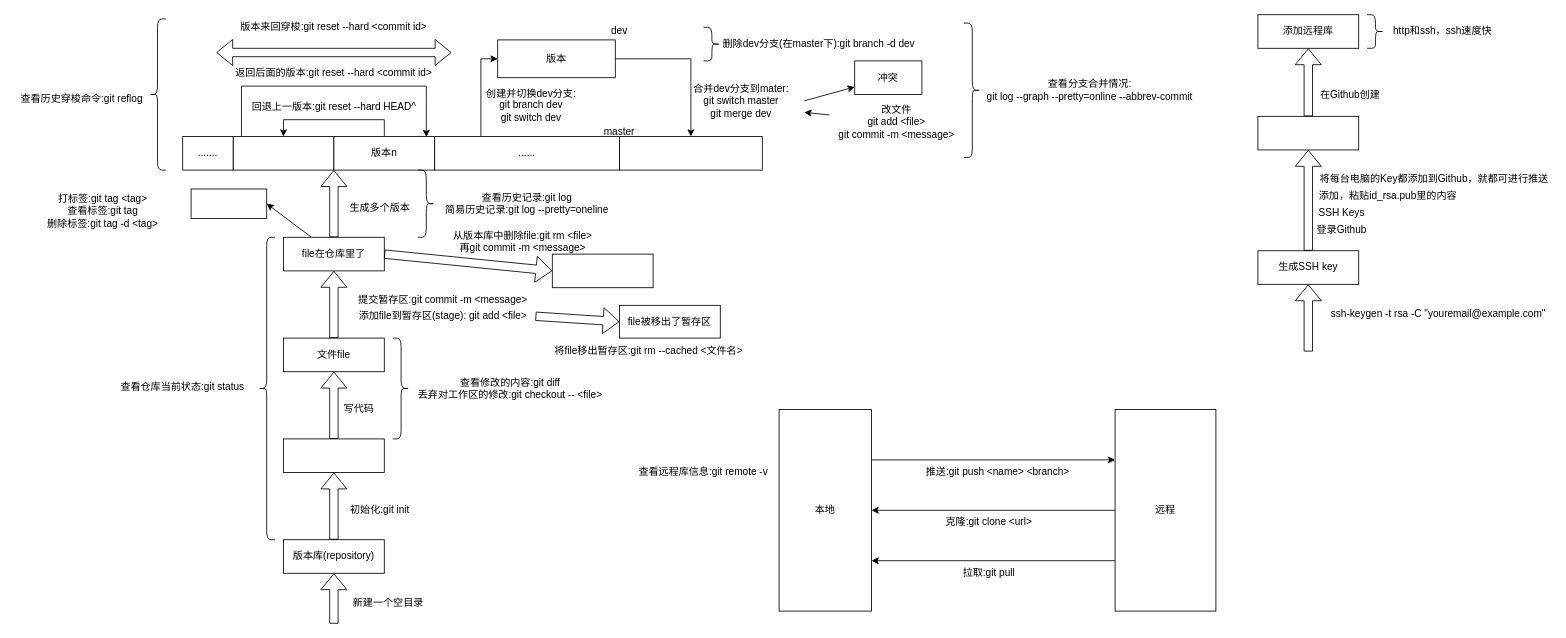
The diagram is 1566 pixels wide and 638 high, and some of its shapes have lost their labels. The shapes that lost their labels are listed below. From the top down, each one's centre as x and y in pixels, then its label:
At point 283,153: "版本n-1".
At point 690,153: "合并后的版本".
At point 1308,133: "SSH加密传输".
At point 228,203: "标签".
At point 602,270: "file从版本库中被删除".
At point 333,455: "Git可管理的仓库".
